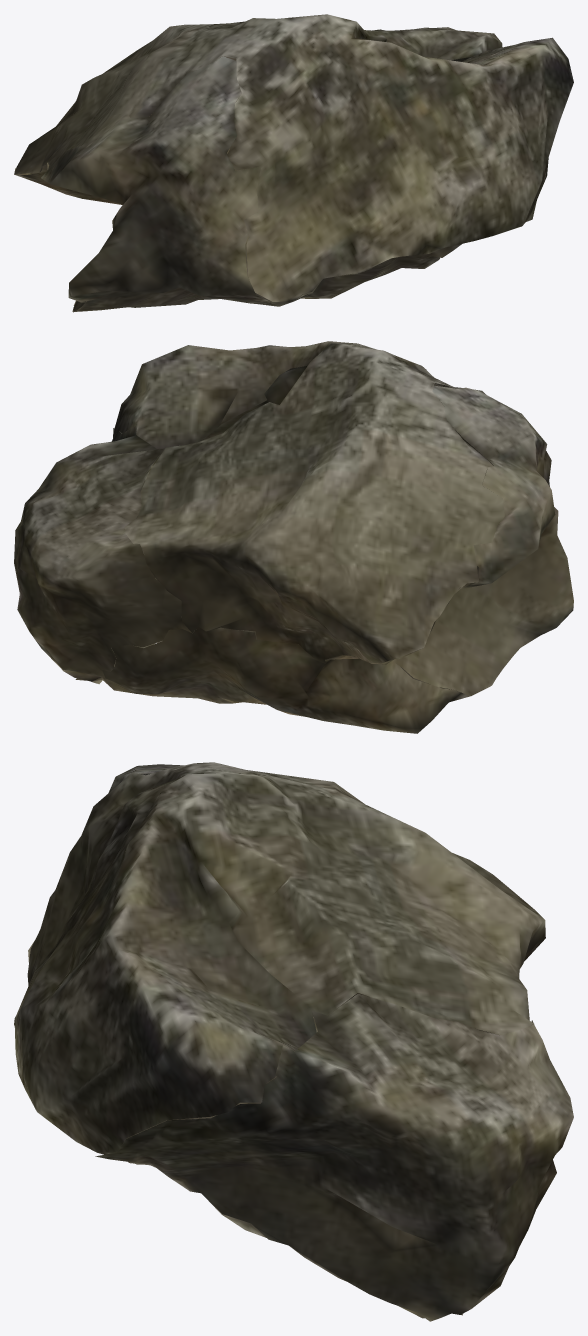
Rendered from rock_moss_set_02_6.glb.
The picture shows the model from 3 angles, top to bottom: view 1: azimuth 30°, elevation 25°; view 2: azimuth 150°, elevation 25°; view 3: azimuth 270°, elevation 25°; orthographic projection. The views are drawn at different scales.
Parts seen in each view (by area): view 1: rock_moss_set_02_rock11; view 2: rock_moss_set_02_rock11; view 3: rock_moss_set_02_rock11.
Boxes of the visible parts, <box> form: rock_moss_set_02_rock11: <box>14,14,573,312</box>; rock_moss_set_02_rock11: <box>14,341,573,733</box>; rock_moss_set_02_rock11: <box>14,762,573,1321</box>.
Bounding box in the file's own units: 1.95 × 1.3 × 1.53.
1 material, 1 textured.
